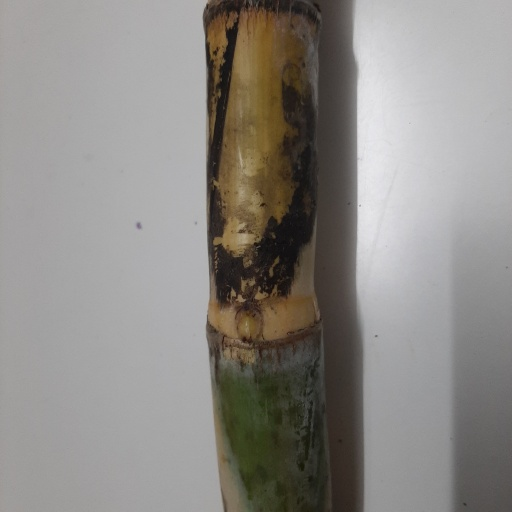Bud: (232, 304, 263, 348)
